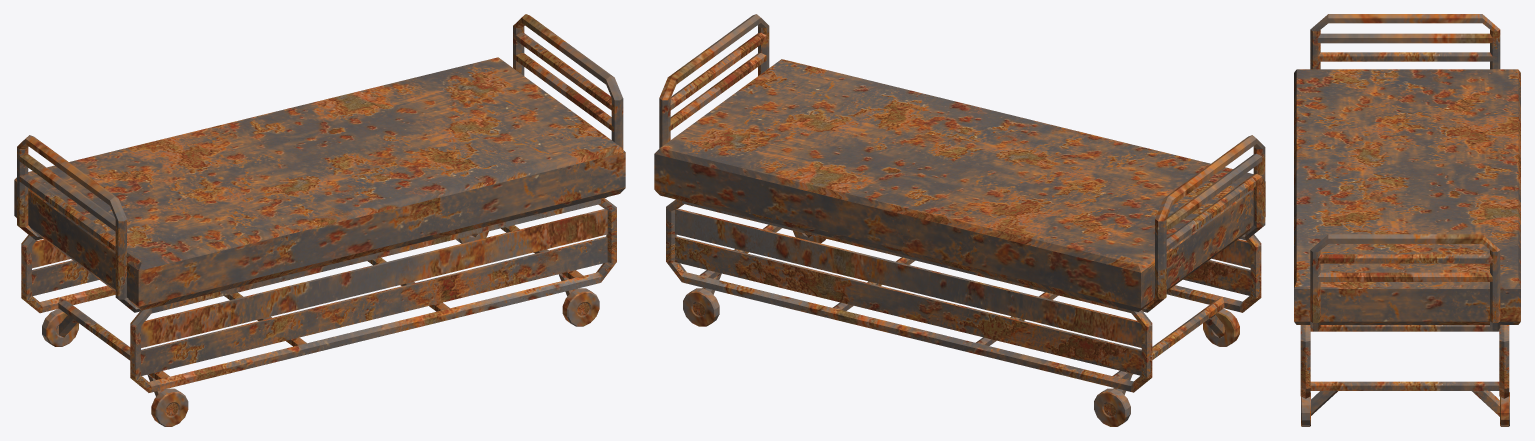
File: OldHospitalBed.fbx
3 renders of one model, left to right at view 1: azimuth 30°, elevation 25°; view 2: azimuth 150°, elevation 25°; view 3: azimuth 270°, elevation 25°, orthographic. The views are drawn at different scales.
Parts seen in each view (by area): view 1: Cube; view 2: Cube; view 3: Cube.
Part boxes in pixels (left/top/right/bottom): Cube: left=14, top=14, right=625, bottom=426; Cube: left=654, top=14, right=1265, bottom=426; Cube: left=1294, top=14, right=1520, bottom=426.
Bounding box in the file's own units: 593 × 258 × 253.
